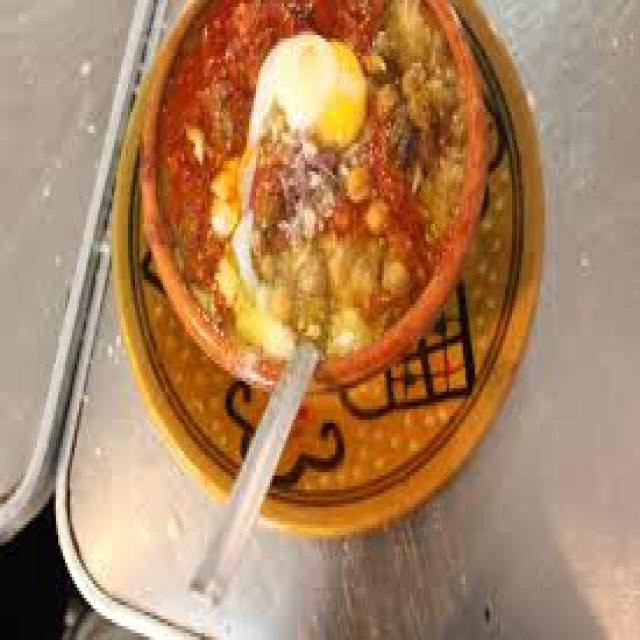Lablabi: (140, 0, 489, 366)
